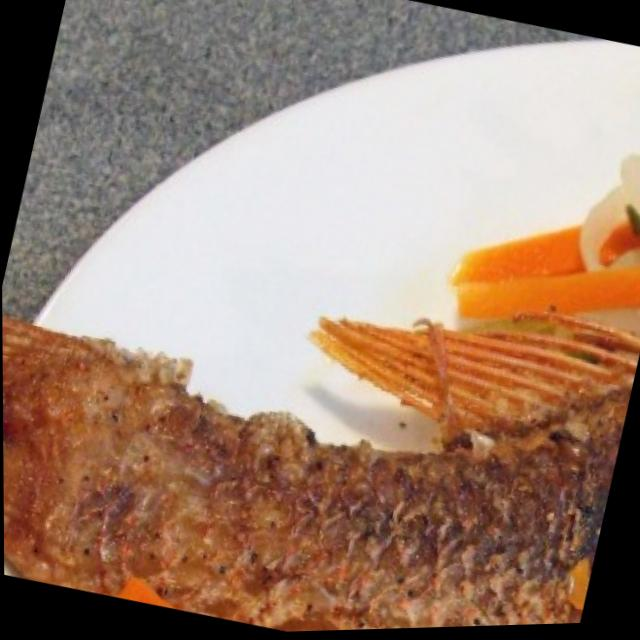FISH FRY: (2, 313, 640, 631)
